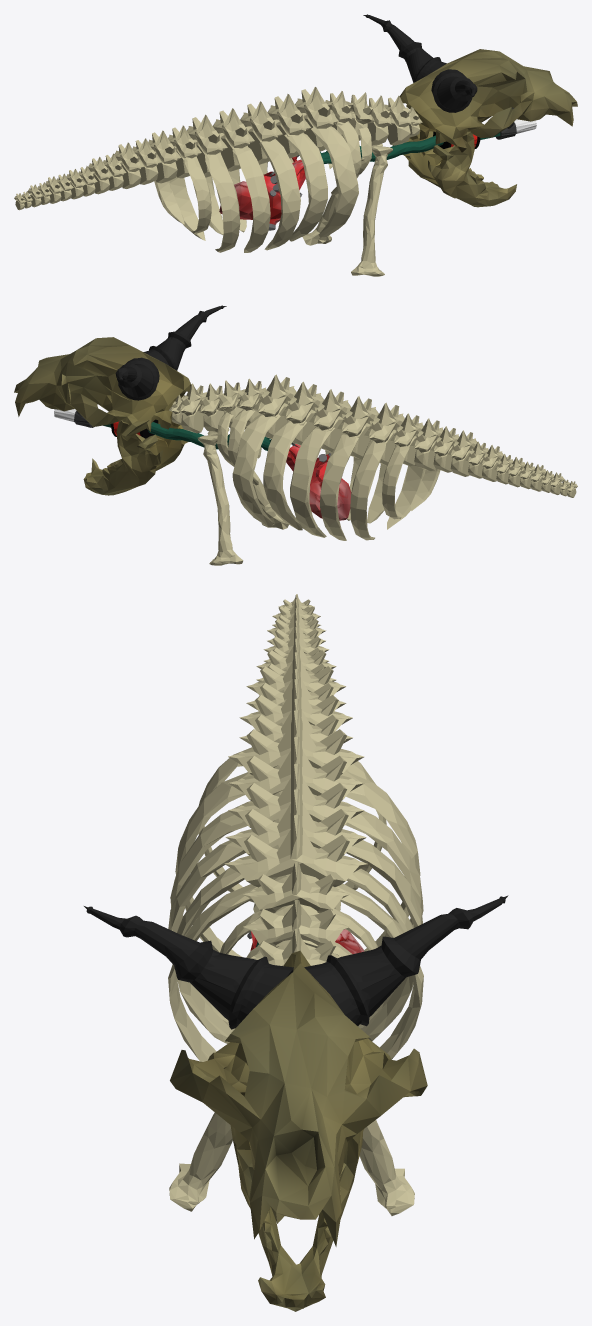
Rendered from ribcage_launcher3.fbx.
The picture shows the model from 3 angles, top to bottom: view 1: azimuth 30°, elevation 25°; view 2: azimuth 150°, elevation 25°; view 3: azimuth 270°, elevation 25°; orthographic projection. The views are drawn at different scales.
Visible parts, largest first — view 1: Ribs, bear skull combined, bear skull combined.001, Cylinder.002, Cylinder, Vertebrae.002, Vertebrae.004, Vertebrae.003, Vertebrae.001, Vertebrae.005, Vertebrae.006, Vertebrae.015 (+14 smaller); view 2: Ribs, bear skull combined, bear skull combined.001, Cylinder.002, Cylinder, Vertebrae.002, Vertebrae.003, Vertebrae.004, Vertebrae.001, Vertebrae.005, Heart1, Vertebrae.006 (+14 smaller); view 3: bear skull combined, Ribs, Cylinder.002, bear skull combined.001, Cylinder, Vertebrae.001, Vertebrae.002, Vertebrae.004, Vertebrae.005, Vertebrae.003, Vertebrae.013, Vertebrae.012 (+6 smaller).
Boxes of the visible parts, left/top/right/bottom form: Ribs: left=154, top=115, right=371, bottom=252; bear skull combined: left=400, top=49, right=577, bottom=152; bear skull combined.001: left=392, top=131, right=516, bottom=207; Cylinder.002: left=363, top=14, right=477, bottom=112; Cylinder: left=302, top=144, right=392, bottom=276; Vertebrae.002: left=267, top=94, right=310, bottom=158; Vertebrae.004: left=213, top=108, right=254, bottom=171; Vertebrae.003: left=240, top=101, right=282, bottom=164; Vertebrae.001: left=295, top=87, right=338, bottom=151; Vertebrae.005: left=187, top=114, right=227, bottom=177; Vertebrae.006: left=148, top=130, right=181, bottom=183; Vertebrae.015: left=384, top=95, right=414, bottom=145; Ribs: left=217, top=409, right=440, bottom=540; bear skull combined: left=14, top=337, right=191, bottom=440; bear skull combined.001: left=83, top=420, right=188, bottom=495; Cylinder.002: left=115, top=305, right=226, bottom=400; Cylinder: left=197, top=428, right=288, bottom=565; Vertebrae.002: left=280, top=381, right=323, bottom=445; Vertebrae.003: left=309, top=389, right=351, bottom=452; Vertebrae.004: left=337, top=396, right=378, bottom=459; Vertebrae.001: left=253, top=374, right=296, bottom=438; Vertebrae.005: left=364, top=402, right=404, bottom=465; Heart1: left=309, top=454, right=351, bottom=520; Vertebrae.006: left=410, top=418, right=443, bottom=471; bear skull combined: left=170, top=950, right=427, bottom=1246; Ribs: left=168, top=747, right=423, bottom=1061; Cylinder.002: left=84, top=895, right=508, bottom=1029; bear skull combined.001: left=230, top=1125, right=363, bottom=1311; Cylinder: left=169, top=1112, right=414, bottom=1215; Vertebrae.001: left=224, top=814, right=367, bottom=912; Vertebrae.002: left=225, top=789, right=366, bottom=855; Vertebrae.004: left=228, top=736, right=363, bottom=801; Vertebrae.005: left=228, top=710, right=364, bottom=775; Vertebrae.003: left=228, top=763, right=364, bottom=827; Vertebrae.013: left=243, top=899, right=349, bottom=947; Vertebrae.012: left=243, top=861, right=349, bottom=913.
Bounding box in the file's own units: 687 × 225 × 227.
